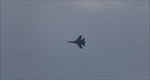maybay_muctieu: (67, 35, 87, 49)
